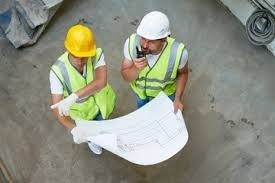helmet: (62, 22, 99, 59), (135, 10, 174, 42)
person with full safety: (123, 11, 189, 100), (51, 23, 114, 116)
safety vest: (56, 60, 110, 115), (130, 45, 183, 97)
